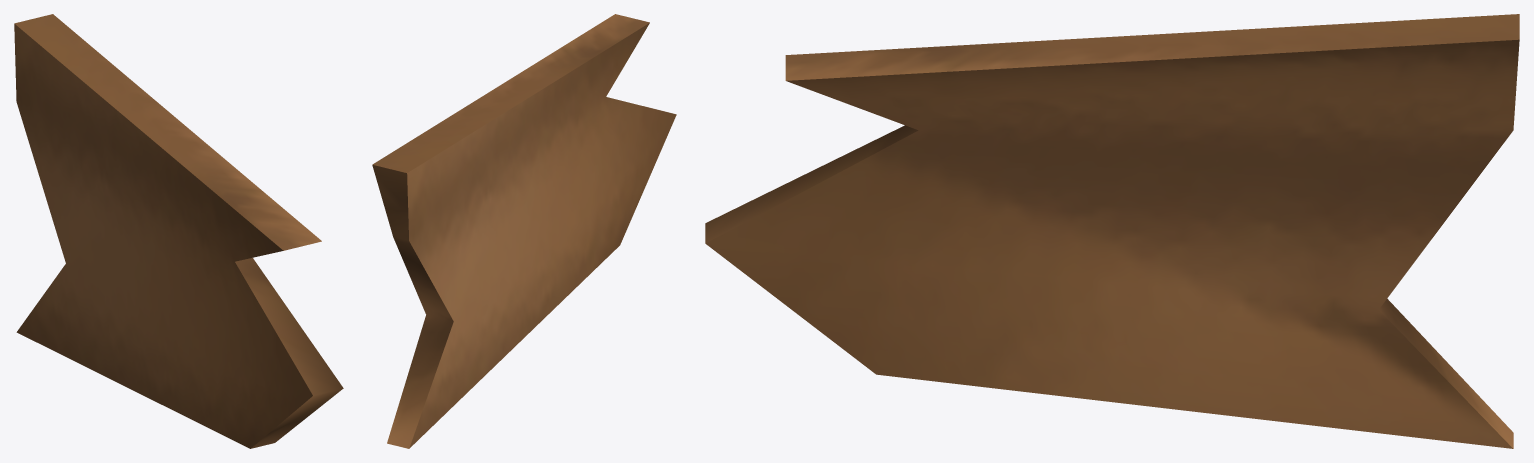
Rendered from Digdig crate bit 3.fbx.
3 views of the same model, side by side, from view 1: azimuth 30°, elevation 25°; view 2: azimuth 150°, elevation 25°; view 3: azimuth 270°, elevation 25° (orthographic). The views are drawn at different scales.
Parts seen in each view (by area): view 1: pCube4; view 2: pCube4; view 3: pCube4.
Part boxes in pixels (x1=…): pCube4: x1=14, y1=14, x2=343, y2=448; pCube4: x1=372, y1=14, x2=676, y2=448; pCube4: x1=705, y1=14, x2=1519, y2=448.
Bounding box in the file's own units: 0.0333 × 0.2527 × 0.4456.
